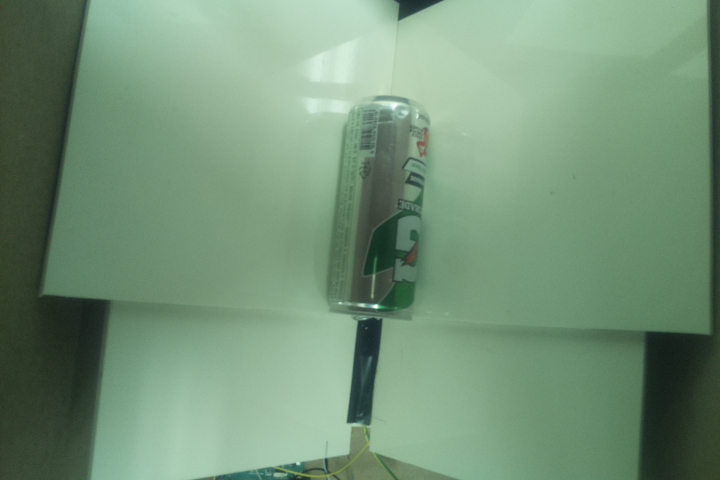can: (323, 92, 432, 324)
